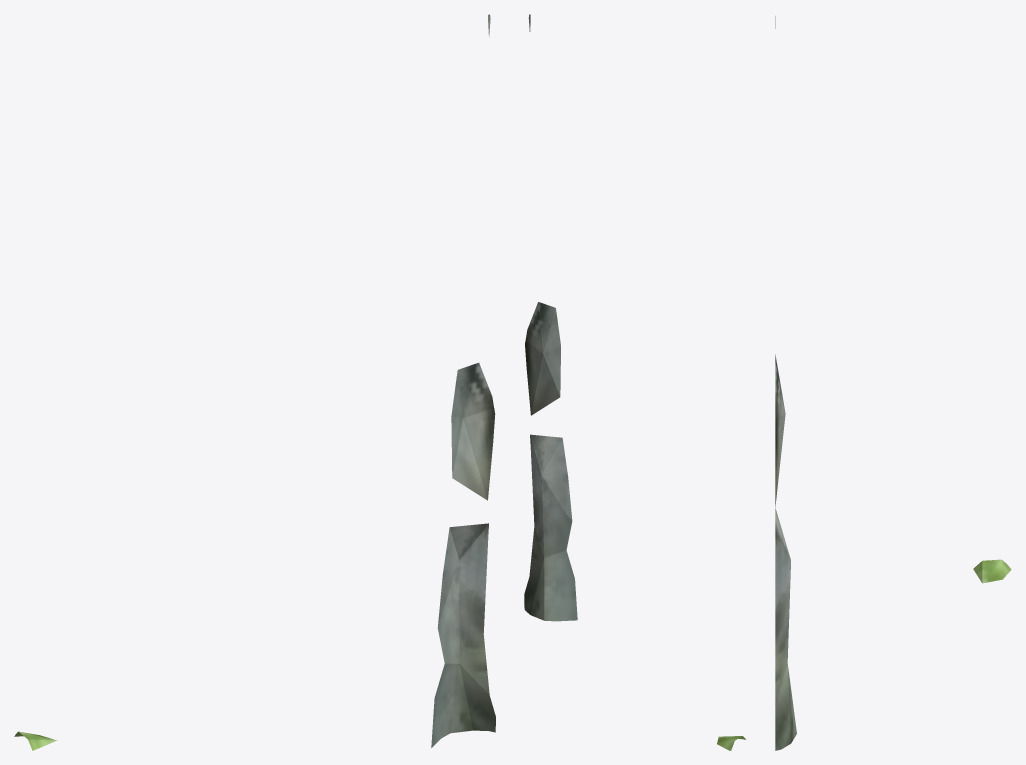
3 renders of one model, left to right at view 1: azimuth 30°, elevation 25°; view 2: azimuth 150°, elevation 25°; view 3: azimuth 270°, elevation 25°, orthographic. The views are drawn at different scales.
Bounding box in the file's own units: 1.27 × 2.39 × 0.6985.
Materials: 1 (1 with a texture image).
